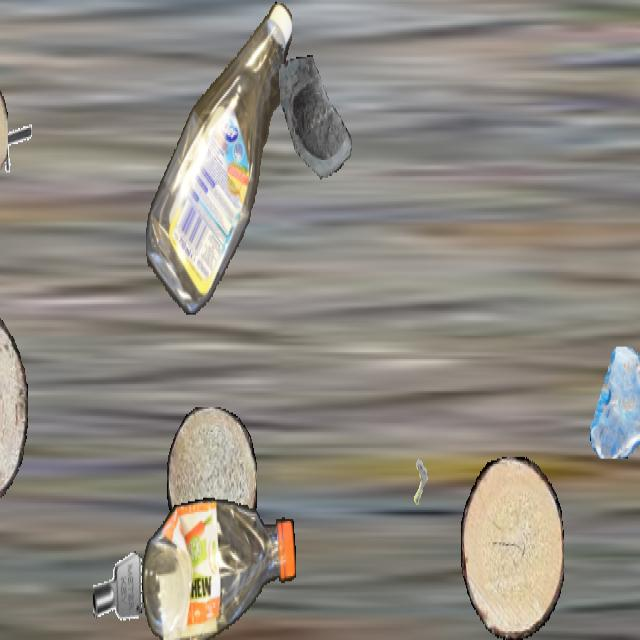glass: (279, 55, 361, 201), (588, 347, 640, 457)
metal: (93, 544, 143, 633), (398, 454, 438, 524), (0, 108, 32, 176)
plastic: (146, 2, 292, 314), (142, 496, 296, 638)
wood: (461, 457, 563, 638), (167, 407, 257, 557), (0, 299, 27, 512), (0, 69, 8, 194)
